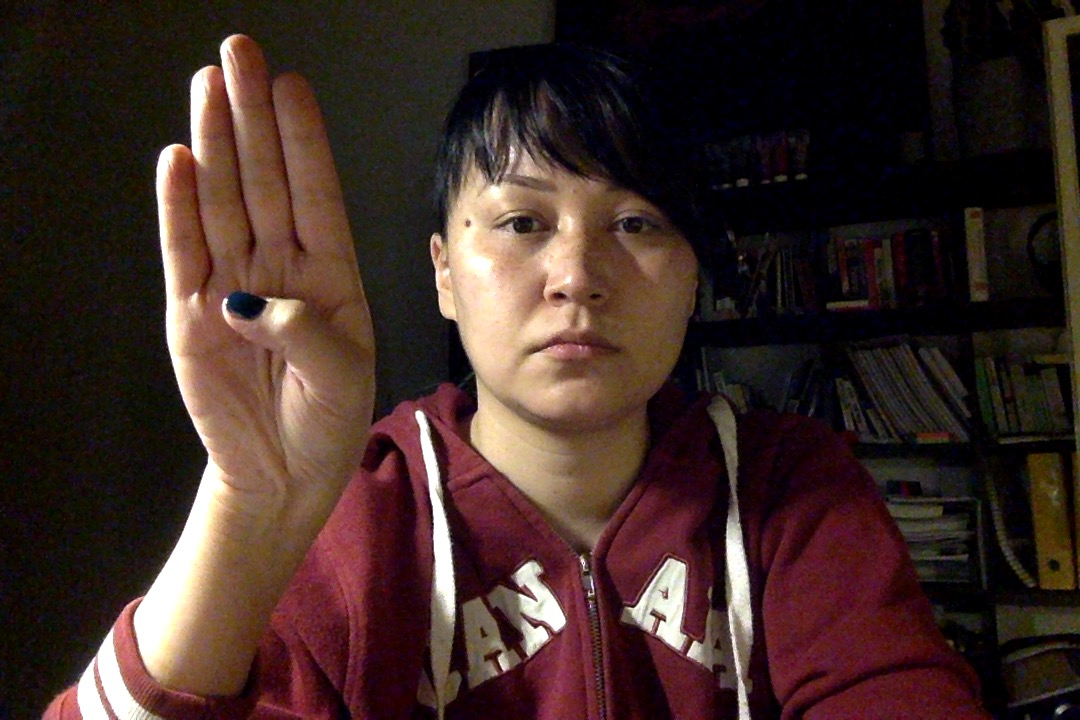b: (110, 19, 405, 534)
